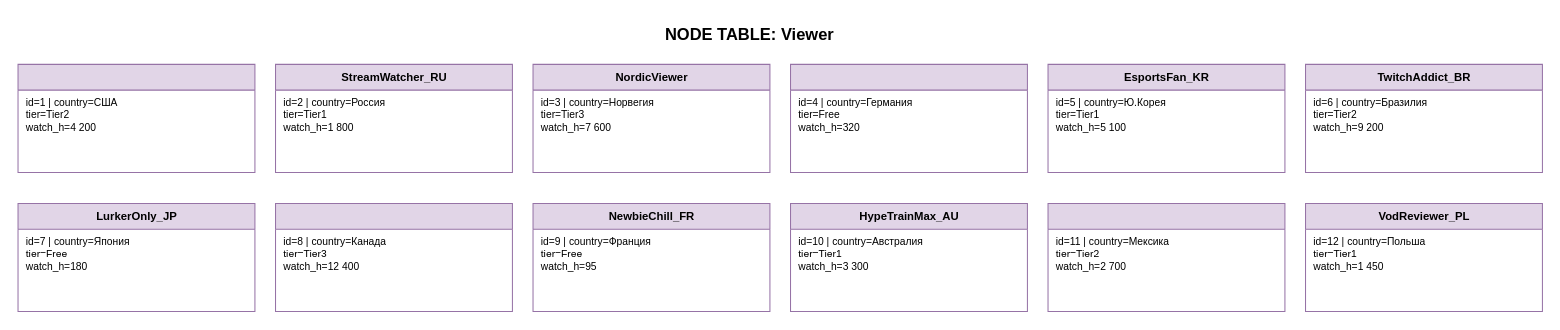
Image size: 1560x330. Some labels were removed from this diagram. The shapes that lost their labels are listed below. From the top down, each one's box as (x1, y1, x2, y2) in pixels, then its label:
(17, 63, 255, 173): GamingFan2001
(789, 63, 1027, 173): CasualGamer_DE
(274, 202, 512, 312): SubGifterPro_CA
(1047, 202, 1285, 312): ChatSpammer_MX
